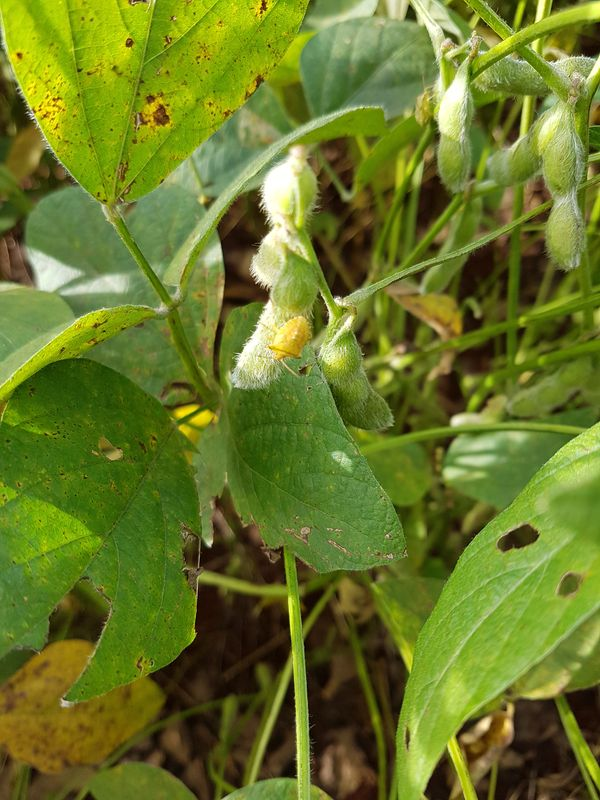Euschistus_heros_ninfa: (252, 309, 320, 384)
